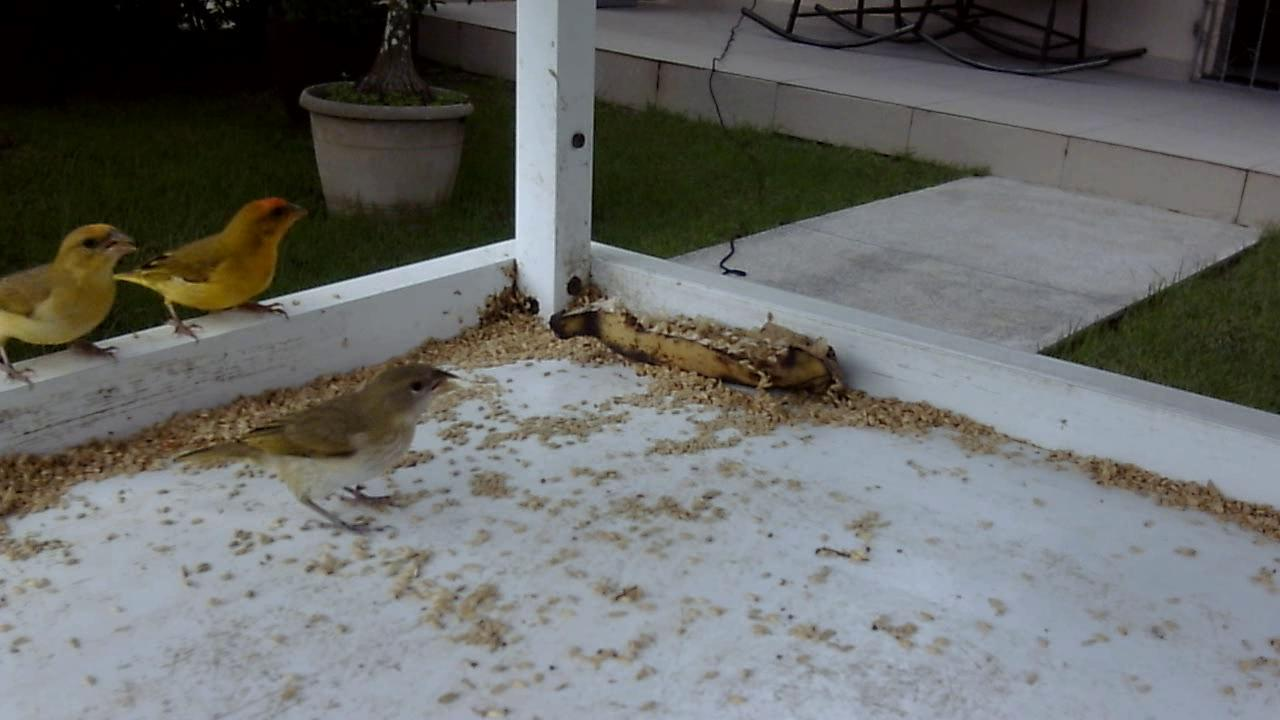canario_do_amazonas: (170, 362, 479, 540), (107, 192, 321, 352), (1, 223, 146, 397)
